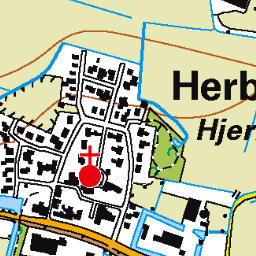church: (77, 144, 106, 190)
